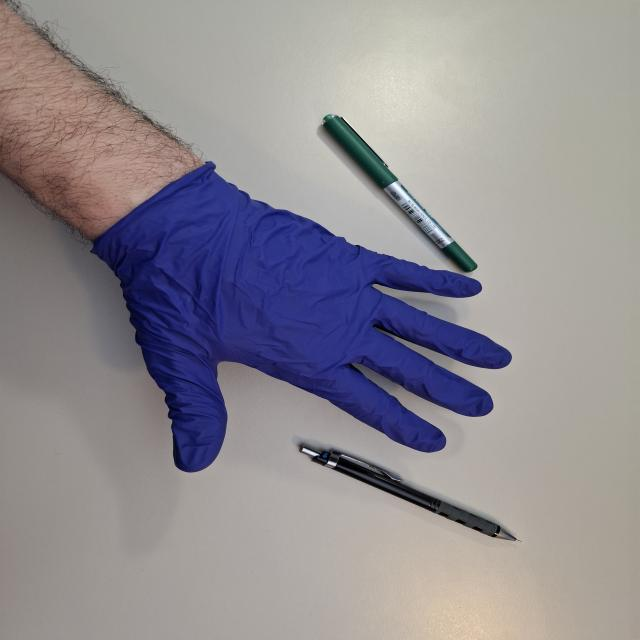glove_on: (89, 158, 515, 476)
